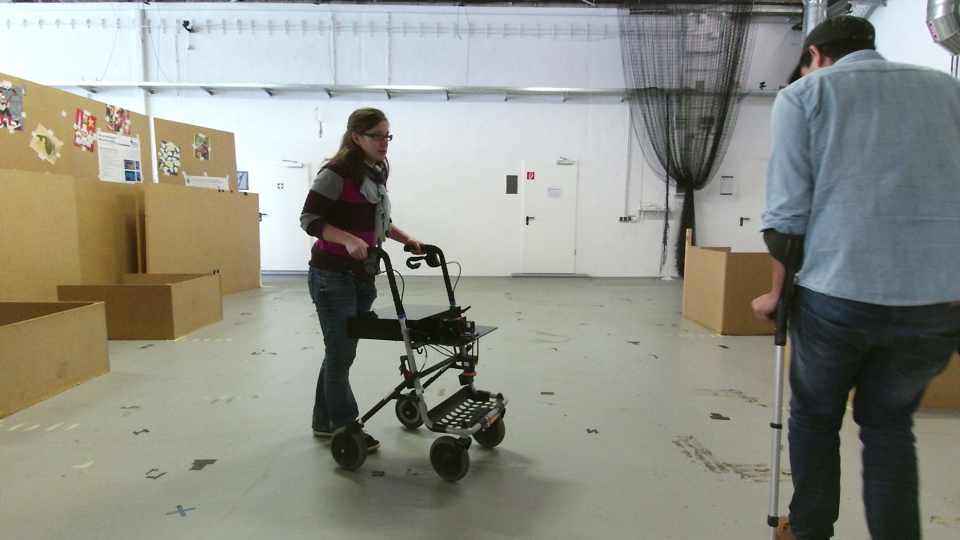crutches: (748, 4, 960, 540)
